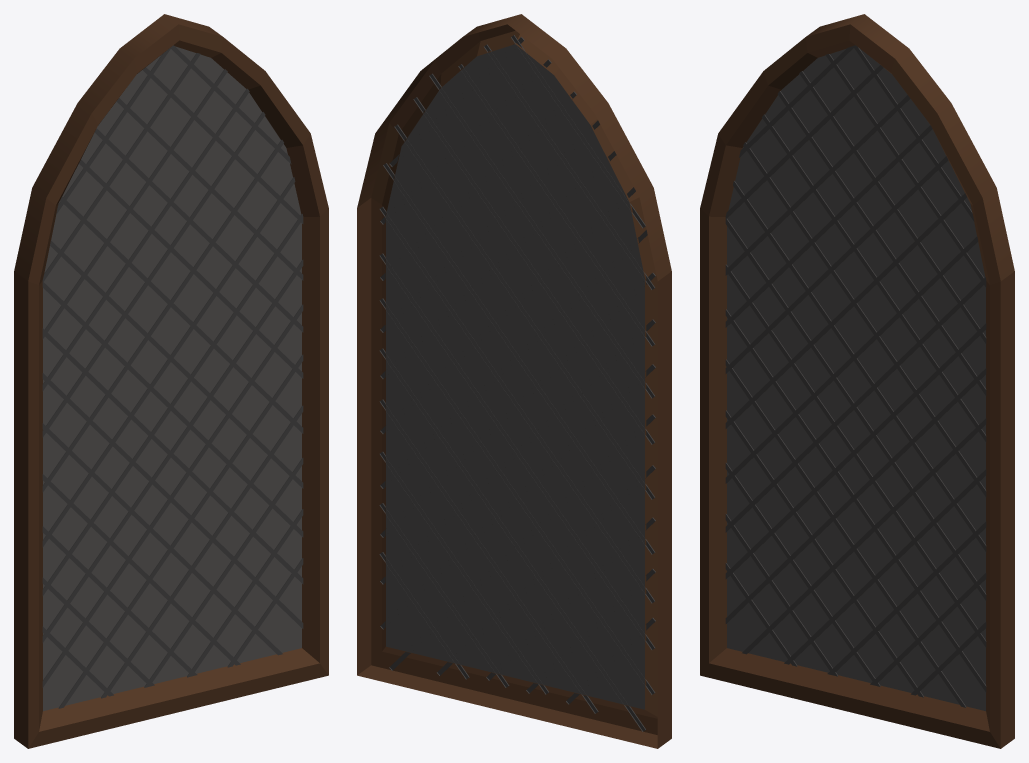
Rendered from VentanaChica 1.fbx.
The picture shows the model from 3 angles, left to right: view 1: azimuth 30°, elevation 25°; view 2: azimuth 150°, elevation 25°; view 3: azimuth 330°, elevation 25°; orthographic projection.
Parts seen in each view (by area): view 1: VentanaChica; view 2: VentanaChica; view 3: VentanaChica.
Part boxes in pixels (box(x1,y1,x2,y2)): VentanaChica: box(14, 14, 328, 748); VentanaChica: box(357, 14, 671, 748); VentanaChica: box(700, 14, 1014, 748).
Bounding box in the file's own units: 88.9 × 194 × 7.72.
